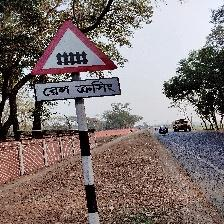Rail-crossing: (30, 20, 120, 105)
